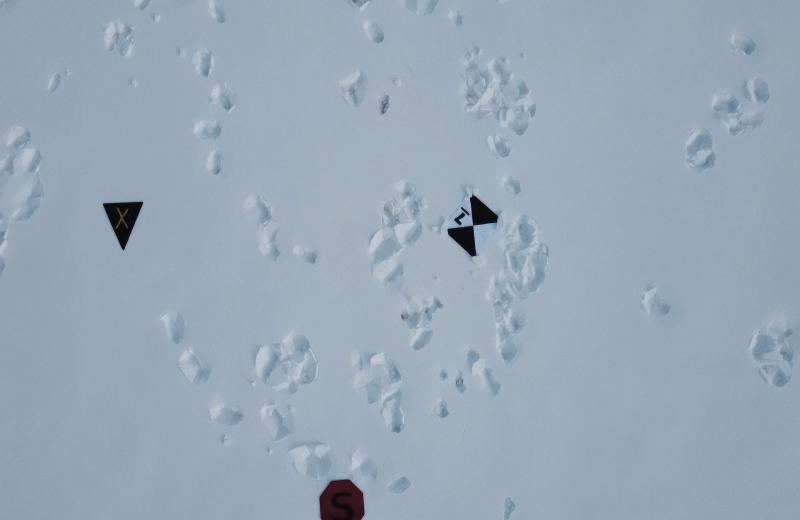Octagon: (318, 475, 366, 520)
Triangle: (102, 198, 144, 252)
